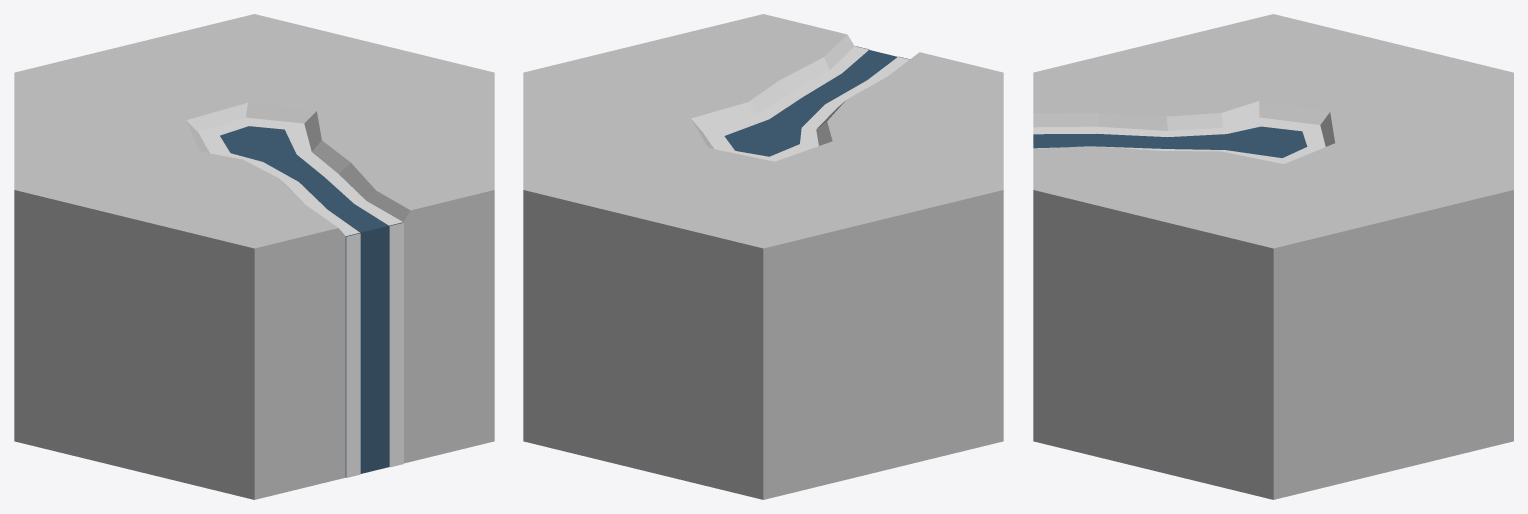
File: Hexagon1.fbx
The picture shows the model from 3 angles, left to right: view 1: azimuth 30°, elevation 25°; view 2: azimuth 150°, elevation 25°; view 3: azimuth 270°, elevation 25°; orthographic projection.
Parts seen in each view (by area): view 1: Hex_1.001; view 2: Hex_1.001; view 3: Hex_1.001.
Part boxes in pixels (x1,y1,x2,y2): Hex_1.001: [14, 14, 494, 499]; Hex_1.001: [523, 14, 1003, 499]; Hex_1.001: [1033, 14, 1513, 499].
Bounding box in the file's own units: 1000 × 500 × 868.
